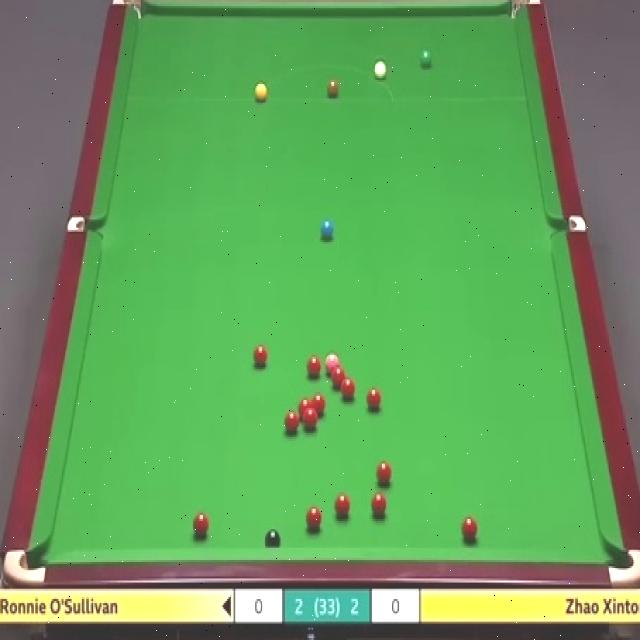black-ball: (264, 527, 282, 551)
blue-ball: (321, 220, 334, 240)
brown-ball: (326, 79, 338, 99)
green-ball: (419, 48, 434, 70)
pink-ball: (324, 350, 340, 374)
red-ball: (370, 490, 388, 519), (461, 515, 479, 543), (334, 491, 352, 518), (374, 460, 392, 487), (305, 507, 323, 531), (252, 342, 268, 369), (192, 511, 209, 536), (284, 410, 300, 434), (306, 354, 322, 378), (366, 387, 382, 411), (341, 379, 356, 404), (303, 406, 318, 430), (313, 392, 327, 416), (330, 367, 346, 386), (298, 398, 312, 416)
white-ball: (374, 58, 388, 82)
yellow-ball: (254, 80, 267, 102)
